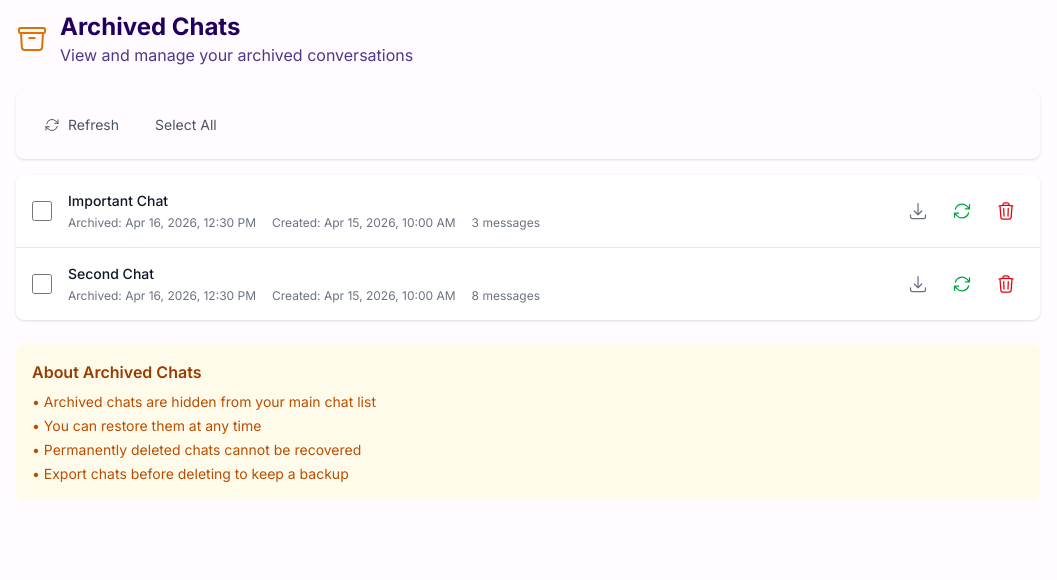
ArchivedChatsPage › loads archived sessions and restores a bulk selection
expect the heading "Important Chat" is shown: met, box [68, 192, 168, 209]
expect the heading "Second Chat" is shown: met, box [68, 265, 154, 282]
Click the button "Select All".
click(186, 125)  # box [143, 107, 229, 143]
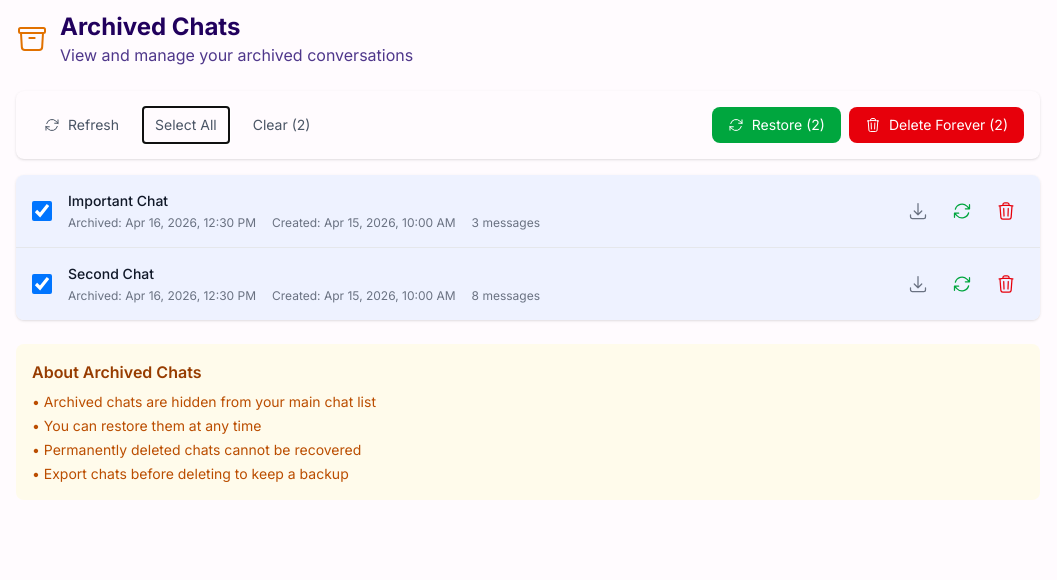
expect the button "Clear (2)" is shown: met, box [241, 107, 322, 143]
Click the button "Restore (2)".
click(776, 125)  # box [712, 107, 841, 143]
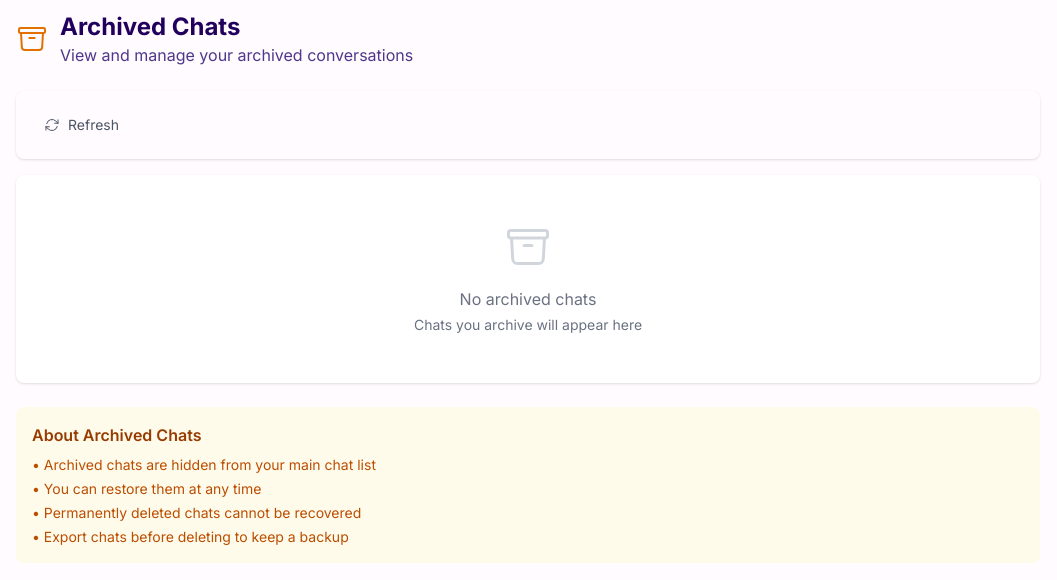
expect the heading "Important Chat" is gone: met
expect the heading "Second Chat" is gone: met
